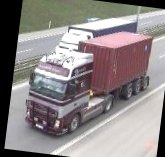truck: (21, 21, 154, 148)
